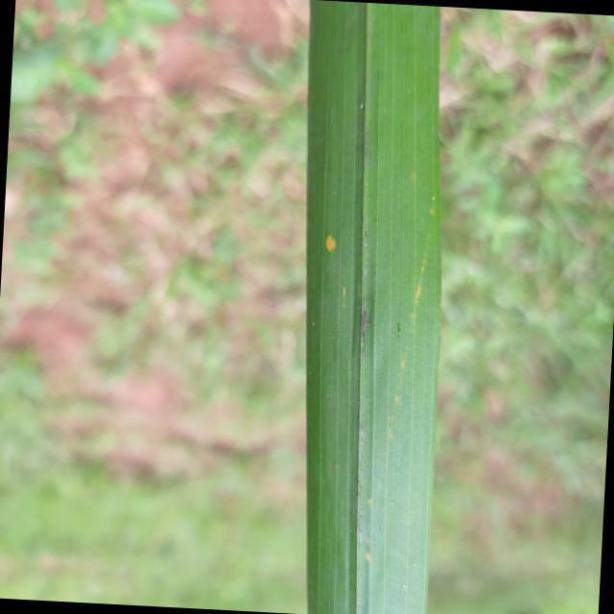Kalium: (306, 0, 446, 614)
